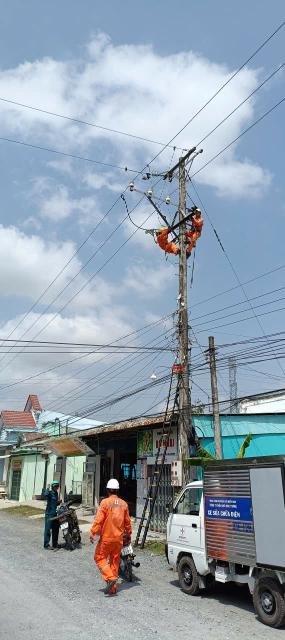harness: (191, 224, 201, 233)
helmet: (103, 476, 123, 491), (155, 227, 167, 233), (196, 207, 203, 214)
shoes: (104, 580, 116, 595)
